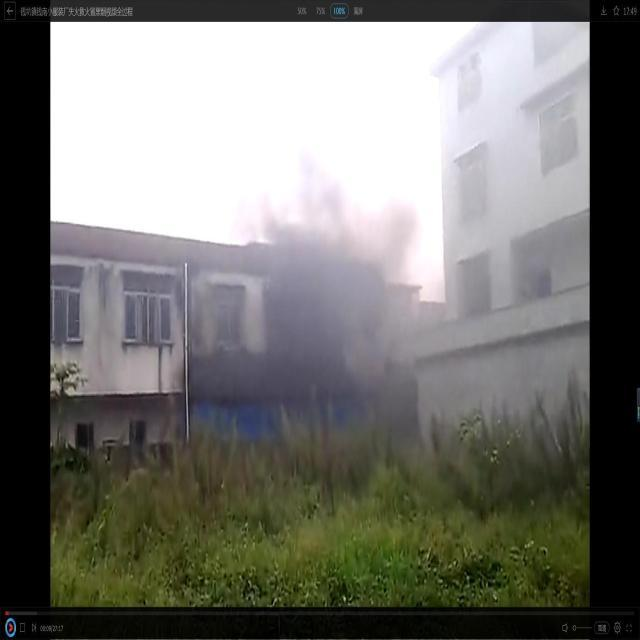Smoke: (198, 143, 424, 416)
